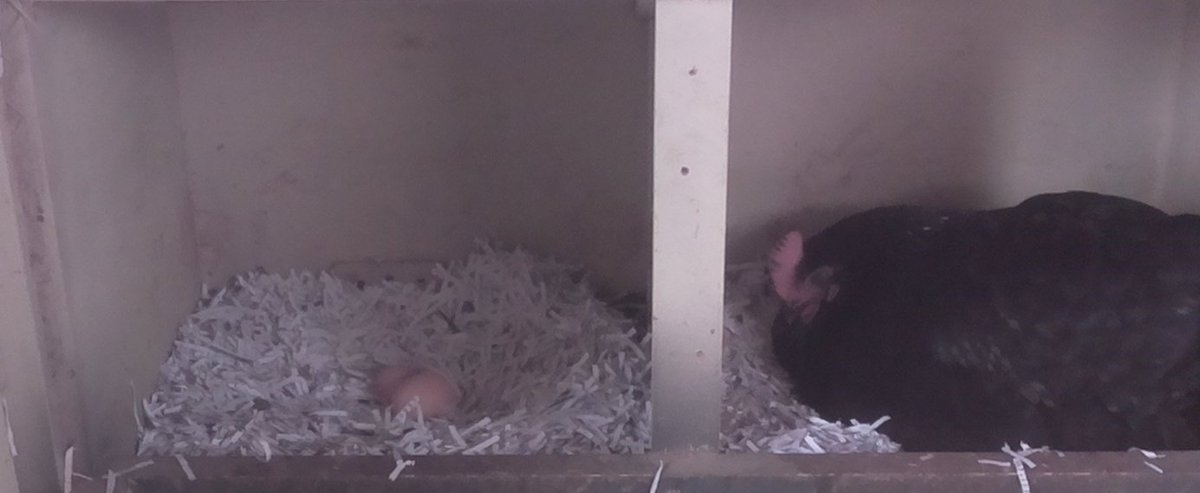egg: (389, 368, 465, 421), (368, 359, 419, 400)
hen: (771, 187, 1198, 449)
